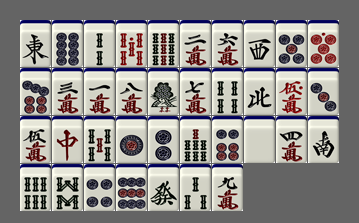0m: (276, 68, 307, 115)
0p: (308, 20, 339, 67)
0s: (116, 20, 147, 67)
1m: (84, 68, 115, 115)
1p: (116, 116, 147, 163)
1s: (148, 68, 179, 115)
1z: (20, 20, 51, 67)
2m: (180, 20, 211, 67)
2p: (148, 116, 179, 163)
2s: (84, 20, 115, 67)
2z: (308, 116, 339, 163)
3m: (52, 68, 83, 115)
3p: (308, 68, 339, 115)
3s: (180, 164, 211, 211)
3z: (244, 20, 275, 67)
4m: (276, 116, 307, 163)
4p: (84, 164, 115, 211)
4s: (212, 68, 243, 115)
4z: (244, 68, 275, 115)
5m: (20, 116, 51, 163)
5p: (276, 20, 307, 67)
5s: (84, 116, 115, 163)
5z: (244, 116, 275, 163)
6m: (212, 20, 243, 67)
6p: (212, 116, 243, 163)
6s: (20, 164, 51, 211)
6z: (148, 164, 179, 211)
7m: (180, 68, 211, 115)
7p: (20, 68, 51, 115)
7s: (180, 116, 211, 163)
7z: (52, 116, 83, 163)
8m: (116, 68, 147, 115)
8p: (52, 20, 83, 67)
8s: (52, 164, 83, 211)
9m: (212, 164, 243, 211)
9p: (116, 164, 147, 211)
9s: (148, 20, 179, 67)
